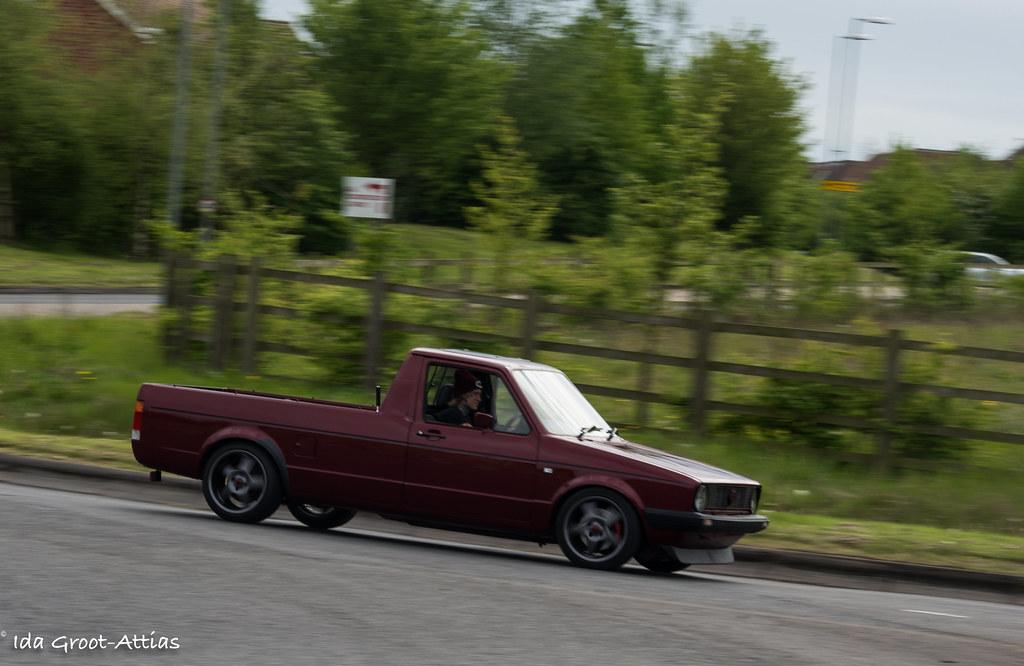car: (131, 346, 770, 574)
